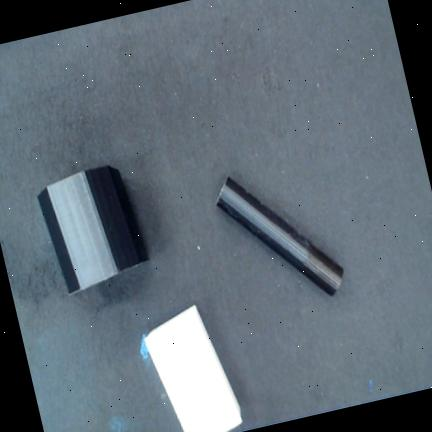Cilindro: (217, 175, 344, 296)
Paralelepipedo: (144, 304, 244, 432)
Prisma_hexagonal: (38, 165, 150, 295)
